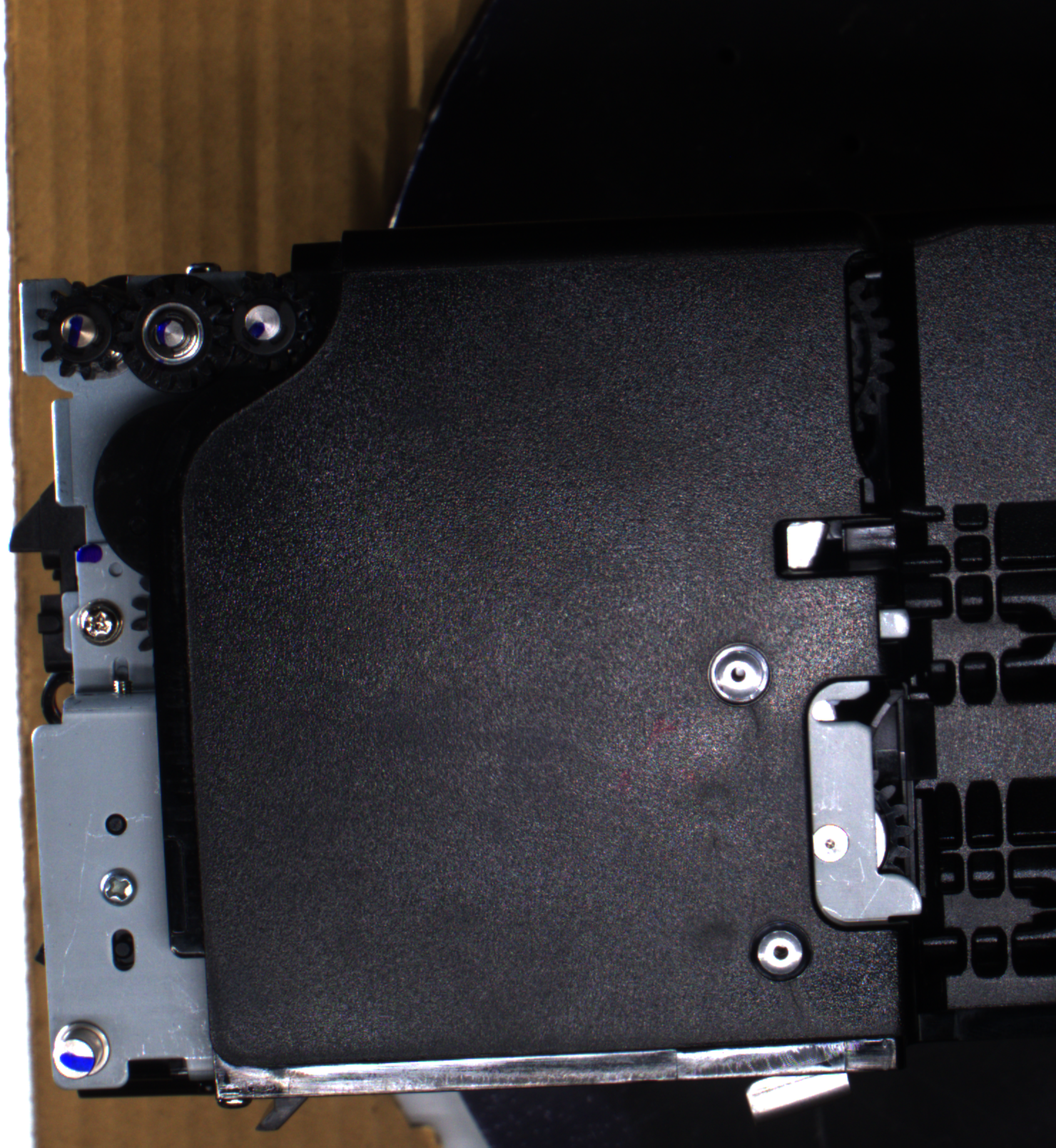centre_pin_presence: (740, 1056, 857, 1124)
centre_plate_presence: (801, 671, 931, 935)
centre_screw_presence: (703, 636, 776, 713), (744, 914, 815, 988)
gear1_presence: (32, 278, 131, 383)
gear2_presence: (117, 273, 230, 394)
gear3_presence: (210, 269, 314, 374)
side_screw_presence: (74, 597, 126, 646), (95, 865, 140, 907)
slanting_pin_presence: (47, 1015, 118, 1088)
